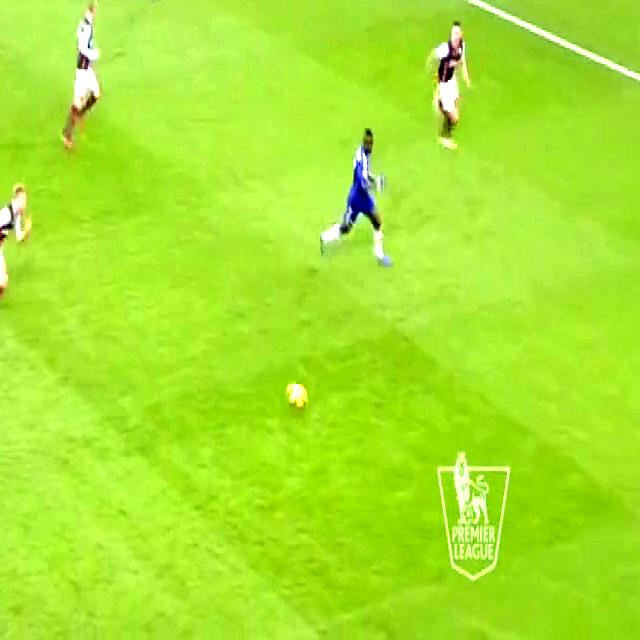ball: (285, 374, 308, 419)
soccer-player: (320, 111, 397, 272), (416, 0, 475, 156), (56, 0, 108, 153), (0, 169, 30, 322), (122, 0, 168, 12)
